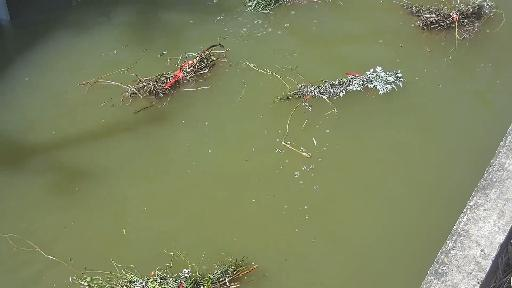twig: (240, 59, 419, 154), (1, 233, 262, 288), (74, 37, 235, 117), (382, 0, 510, 61), (221, 1, 348, 14)
